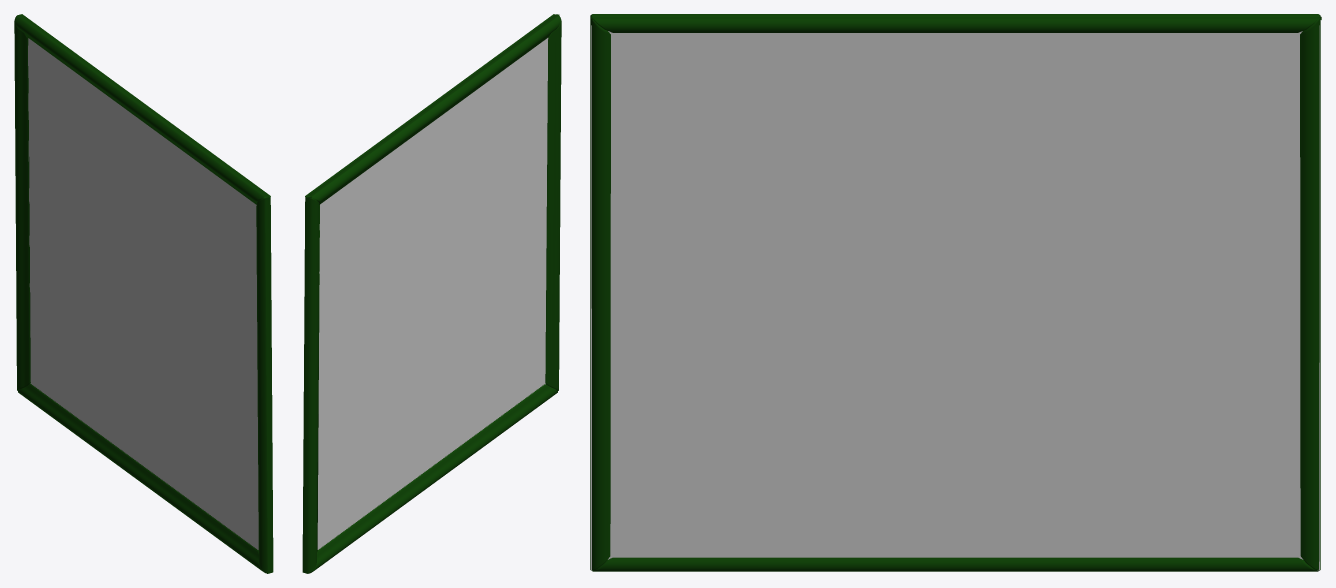
Rendered from window.gltf.
The picture shows the model from 3 angles, left to right: view 1: azimuth 30°, elevation 25°; view 2: azimuth 150°, elevation 25°; view 3: azimuth 270°, elevation 25°; orthographic projection. The views are drawn at different scales.
Parts seen in each view (by area): view 1: subset_7.004; view 2: subset_7.004; view 3: subset_7.004.
Part boxes in pixels (<box>): subset_7.004: <box>14,14,273,573</box>; subset_7.004: <box>302,14,561,573</box>; subset_7.004: <box>590,14,1321,571</box>.
Size of the model in its own units: 0.0929 by 2.32 by 2.78.
